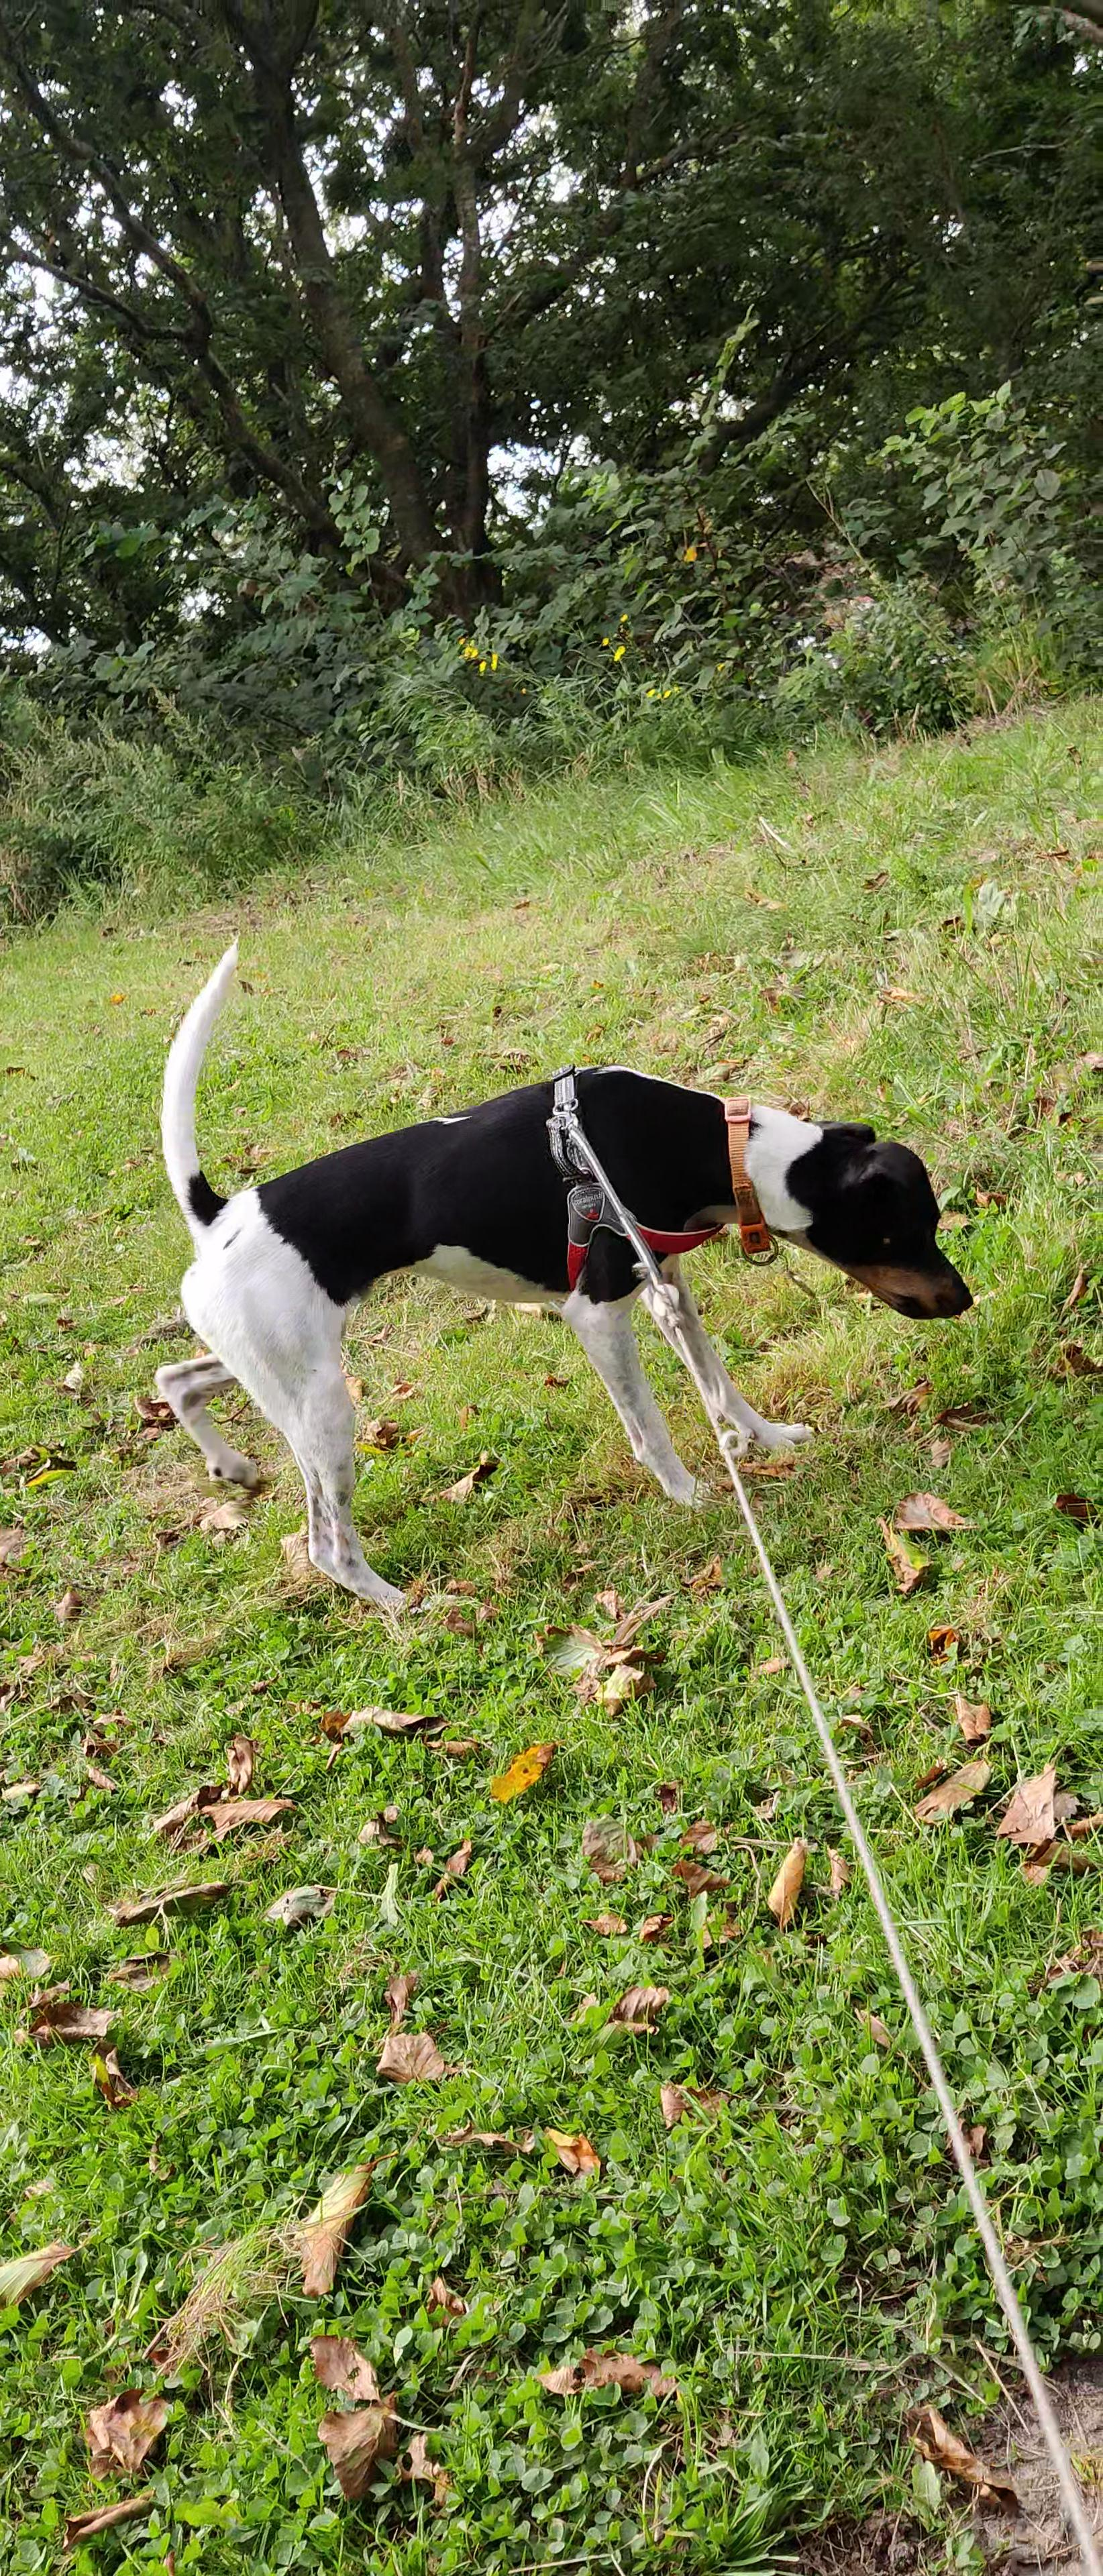Dog: (141, 930, 978, 1613)
